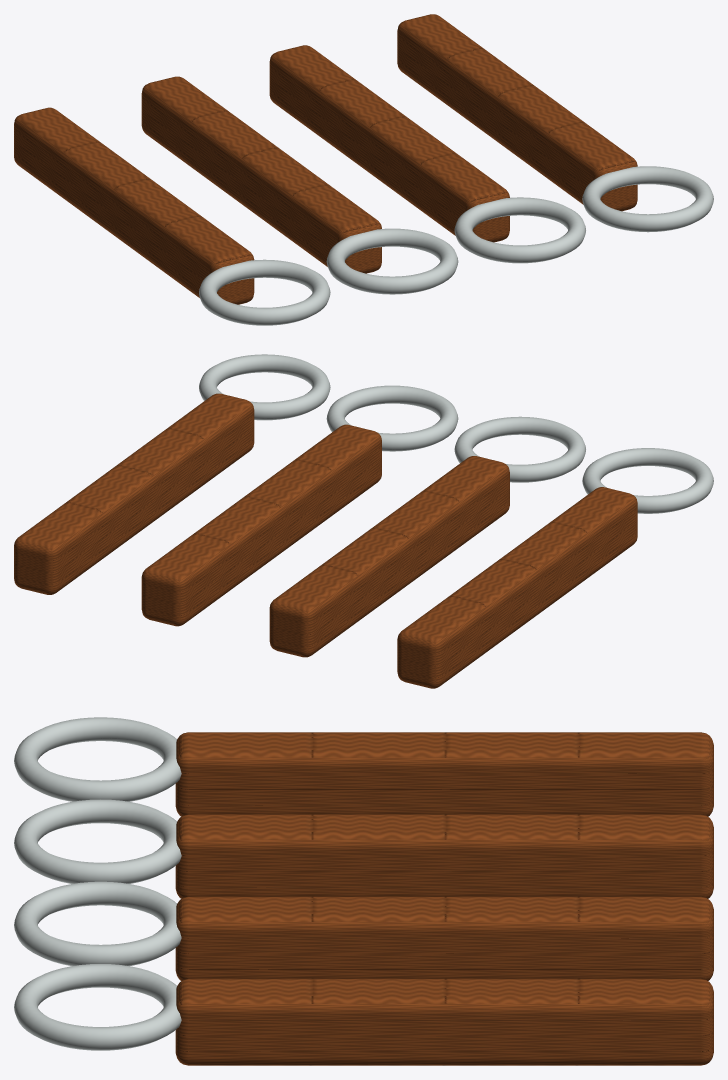
The model's file is ceramics-pottery-studio-ribbon-tool-set-abd242aa__29501.glb.
The picture shows the model from 3 angles, top to bottom: view 1: azimuth 30°, elevation 25°; view 2: azimuth 150°, elevation 25°; view 3: azimuth 270°, elevation 25°; orthographic projection. The views are drawn at different scales.
Visible parts, largest first — view 1: ribbon-tool-set; view 2: ribbon-tool-set; view 3: ribbon-tool-set.
Part boxes in pixels (x1,y1,x2,y2): ribbon-tool-set: (14, 14, 713, 325); ribbon-tool-set: (14, 354, 713, 688); ribbon-tool-set: (14, 717, 713, 1065).
Bounding box in the file's own units: 0.253 × 0.025 × 0.234.
2 materials, 1 textured.
